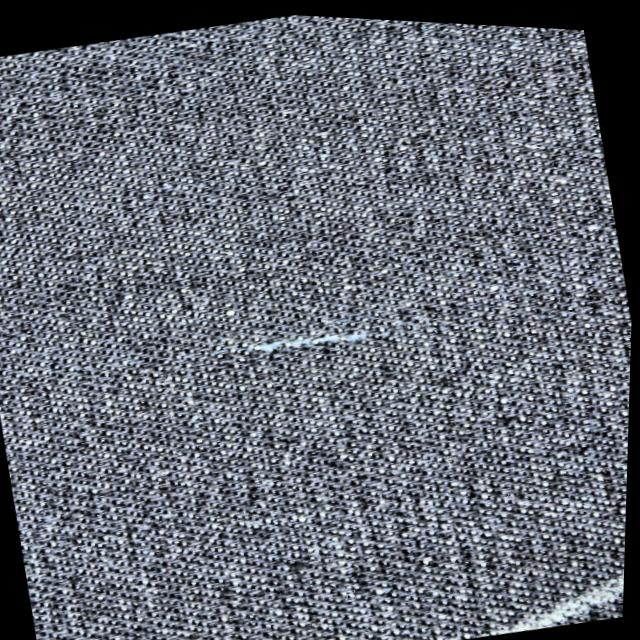Hole: (219, 303, 387, 373)
